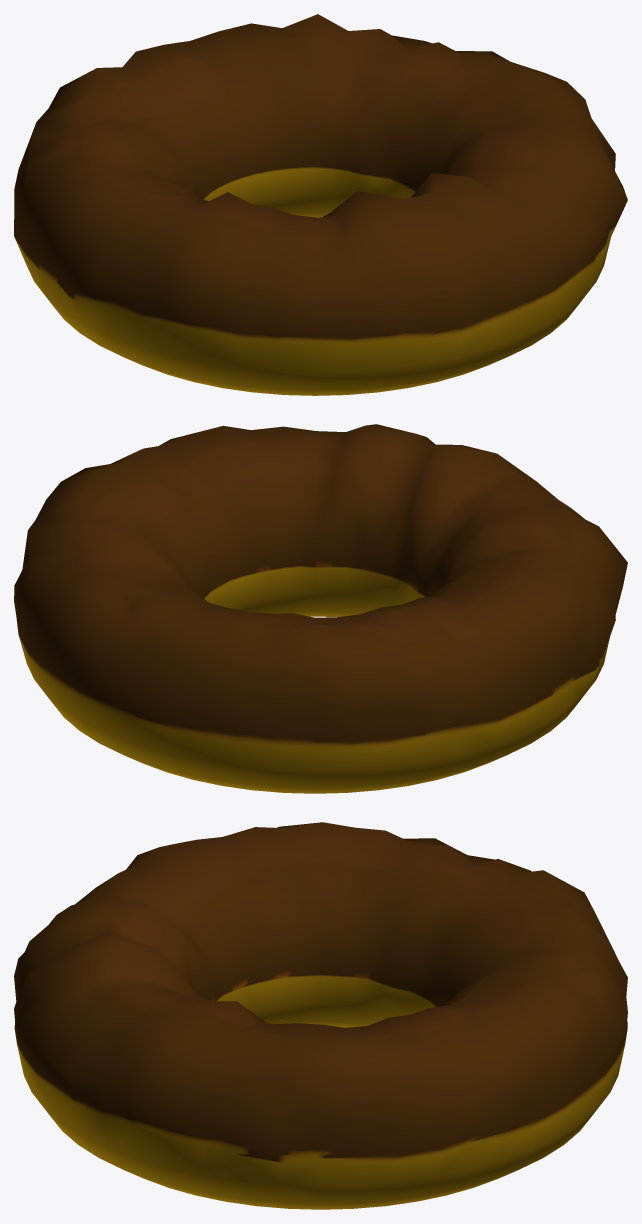
Rendered from DonaChocolate.obj.
3 views of the same model, one above another, from view 1: azimuth 30°, elevation 25°; view 2: azimuth 150°, elevation 25°; view 3: azimuth 270°, elevation 25° (orthographic). The views are drawn at different scales.
Parts seen in each view (by area): view 1: Torus.001; view 2: Torus.001; view 3: Torus.001.
Part boxes in pixels (<box>): Torus.001: <box>14,14,627,395</box>; Torus.001: <box>14,424,627,793</box>; Torus.001: <box>14,822,627,1209</box>.
Size of the model in its own units: 2.9 by 0.9684 by 2.84.
Materials: 1 (1 with a texture image).
